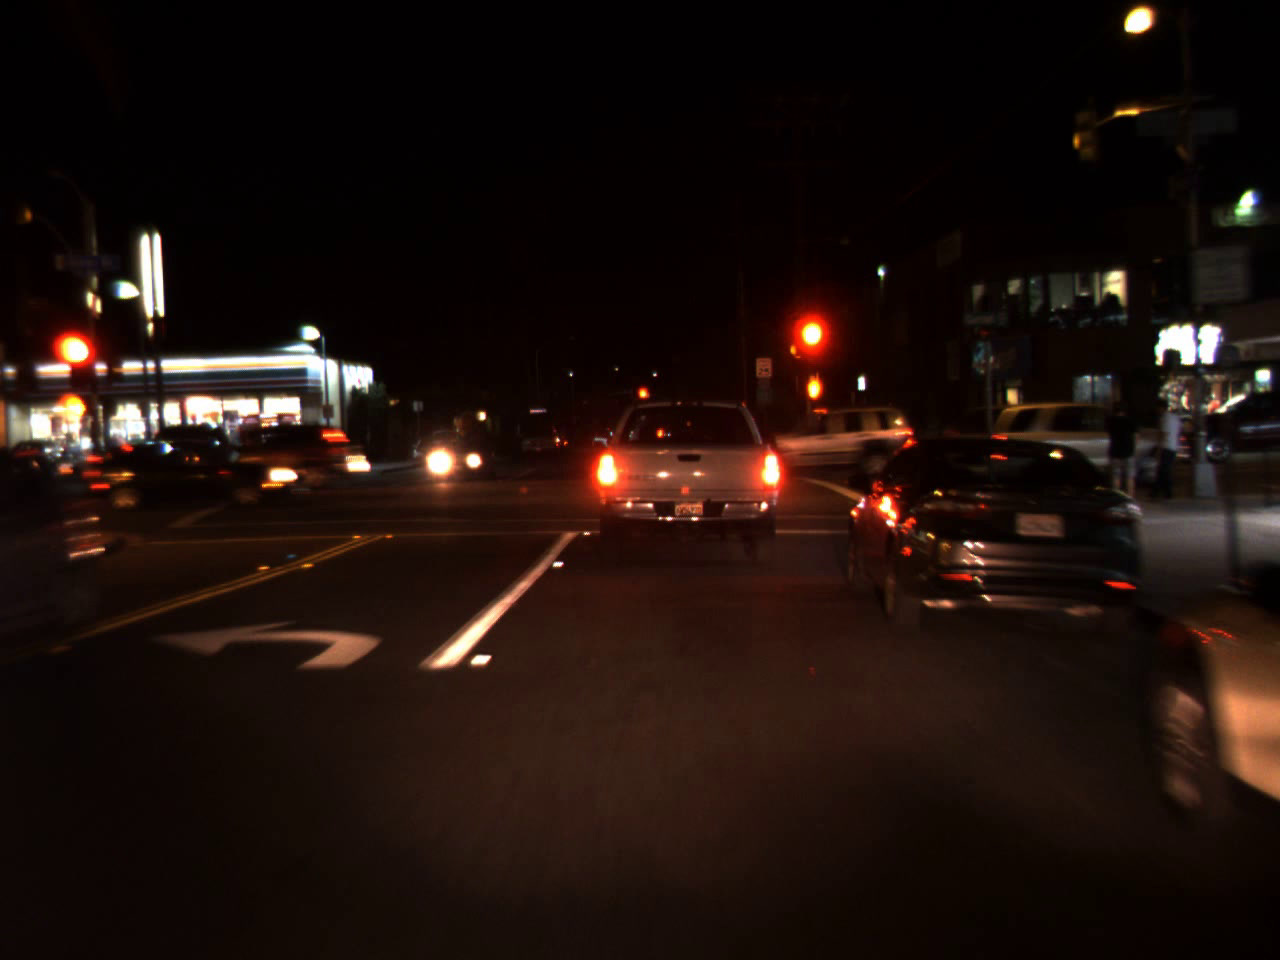stop: (51, 329, 94, 399), (794, 318, 825, 377), (635, 385, 650, 412)
